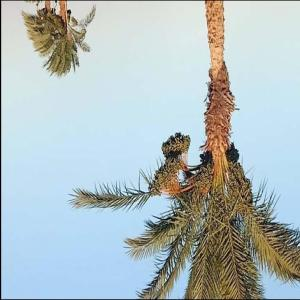palm tree: (67, 0, 299, 299), (20, 0, 96, 77)
